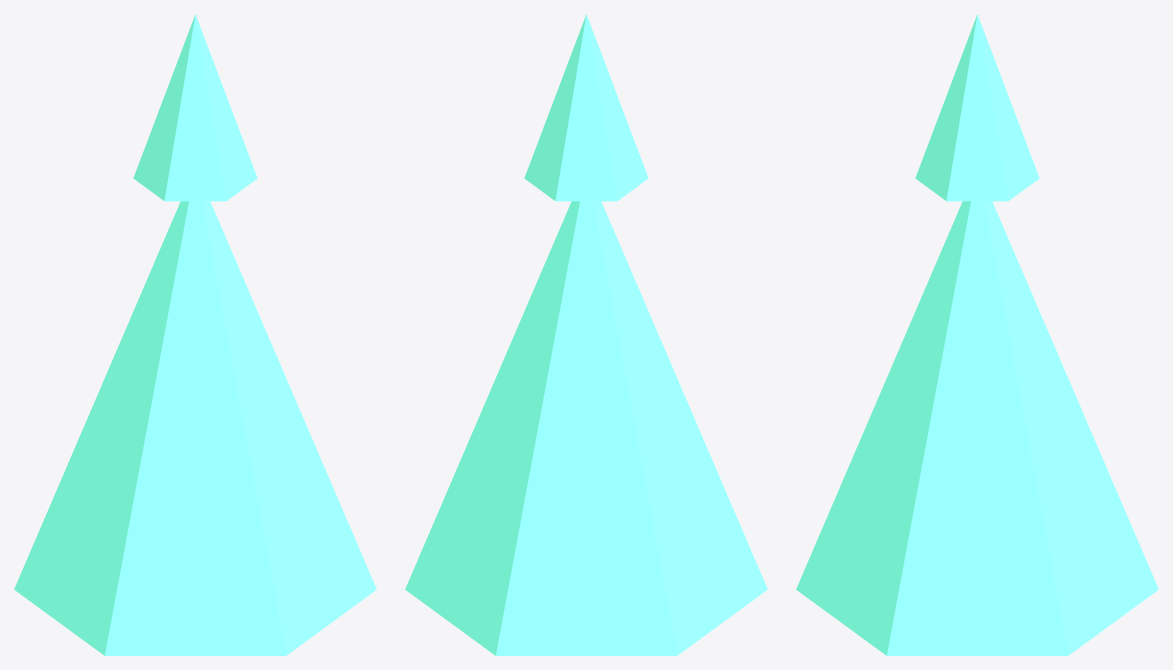
The model's file is SM_VerdantCrystal_01.glb.
3 views of the same model, side by side, from view 1: azimuth 30°, elevation 25°; view 2: azimuth 150°, elevation 25°; view 3: azimuth 270°, elevation 25° (orthographic).
Visible parts, largest first — view 1: SM_VerdantCrystal_01; view 2: SM_VerdantCrystal_01; view 3: SM_VerdantCrystal_01.
Part boxes in pixels (x1,y1,x2,y2): SM_VerdantCrystal_01: (14, 14, 376, 655); SM_VerdantCrystal_01: (405, 14, 767, 655); SM_VerdantCrystal_01: (796, 14, 1158, 655).
Bounding box in the file's own units: 0.6062 × 1.22 × 0.7.
